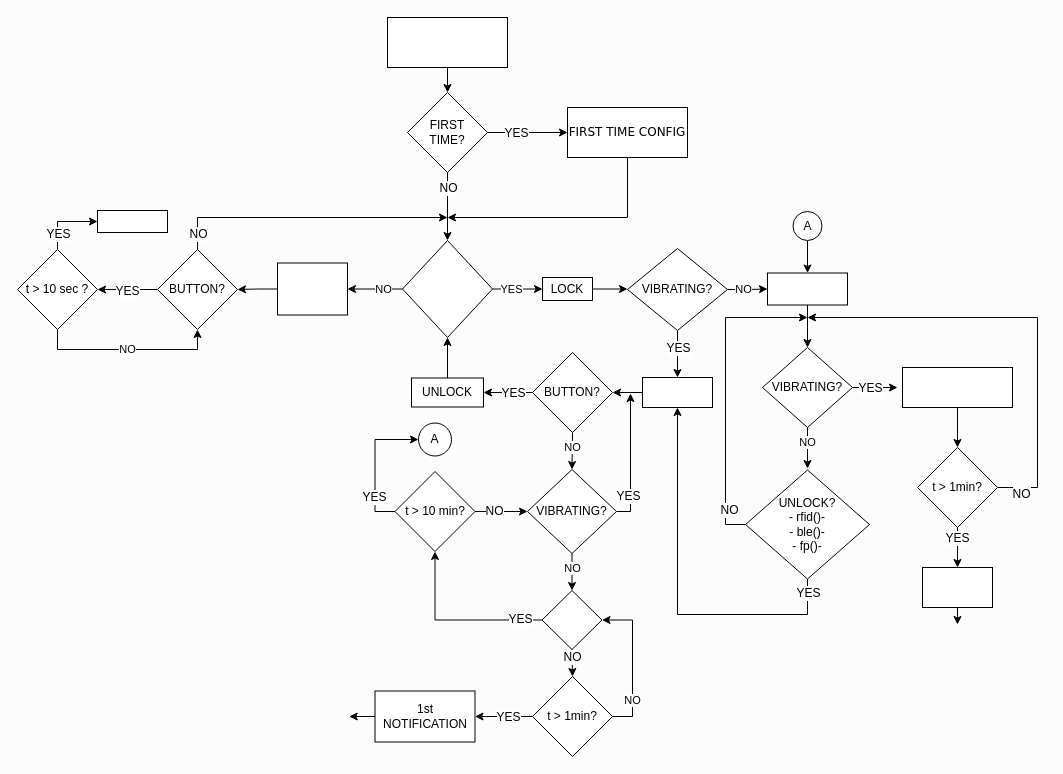
Image size: 1063x774. Some labels were removed from this diagram. The box of each missing label's shape, as (x1, y1, x2, y2) in pixels:
ALARM: (96, 210, 168, 232)
IMU OK?: (541, 590, 602, 650)
NOT USED: (276, 262, 348, 315)
ON THE HOLDER?: (402, 240, 492, 338)
PARKING: (766, 272, 848, 305)
PARKING ALARM: (902, 366, 1012, 408)
POWER ON: (386, 16, 508, 68)
RIDING: (642, 376, 712, 408)
THEFT ALARM: (922, 566, 992, 608)
